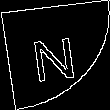N_N: (29, 27, 81, 83)
